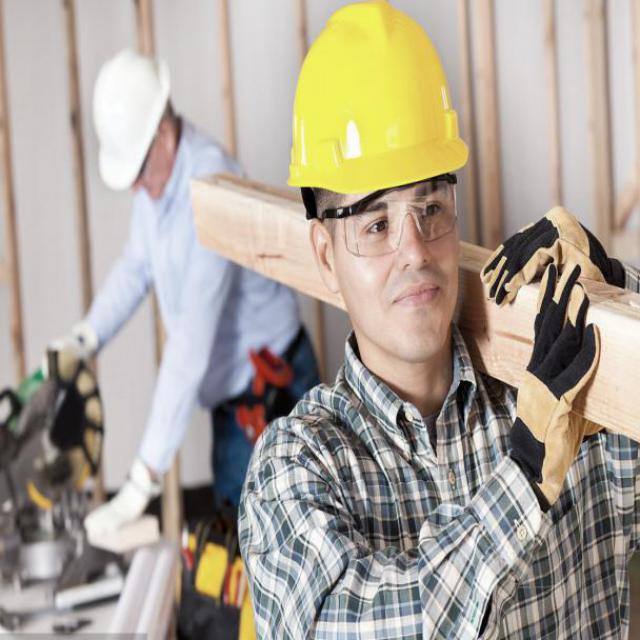gloves: (72, 462, 168, 542), (44, 301, 100, 388)
helmet: (275, 8, 481, 346), (69, 23, 193, 204)
